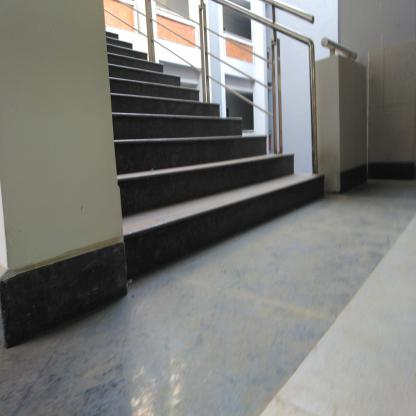stairs: (127, 77, 180, 295)
